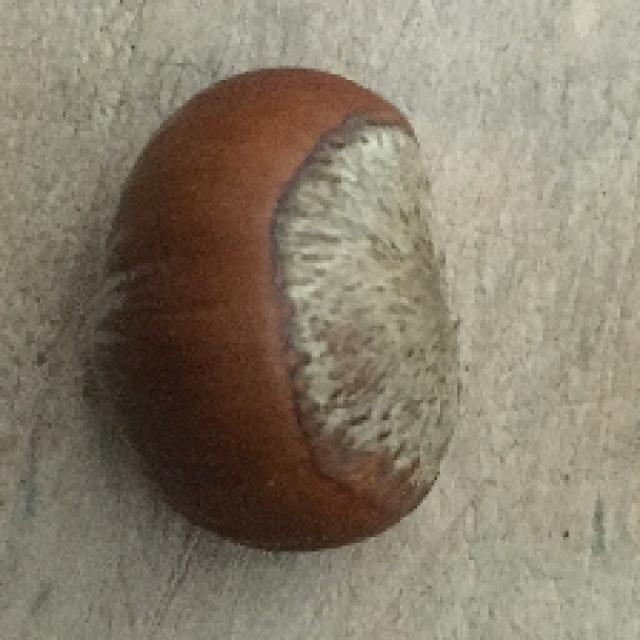qualityHazelnut: (90, 66, 467, 561)
